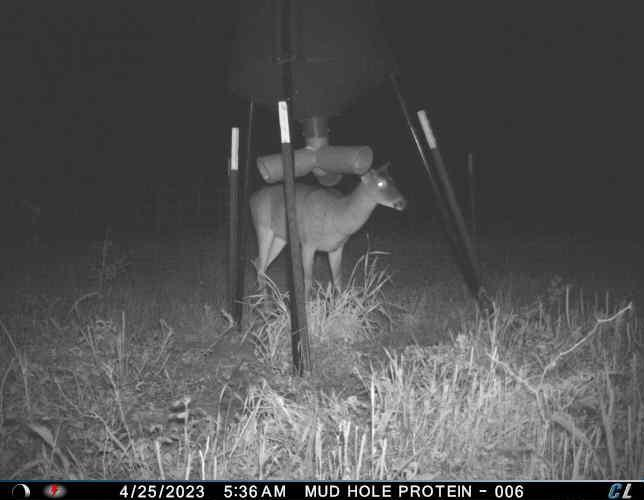Deer: (248, 157, 409, 308)
